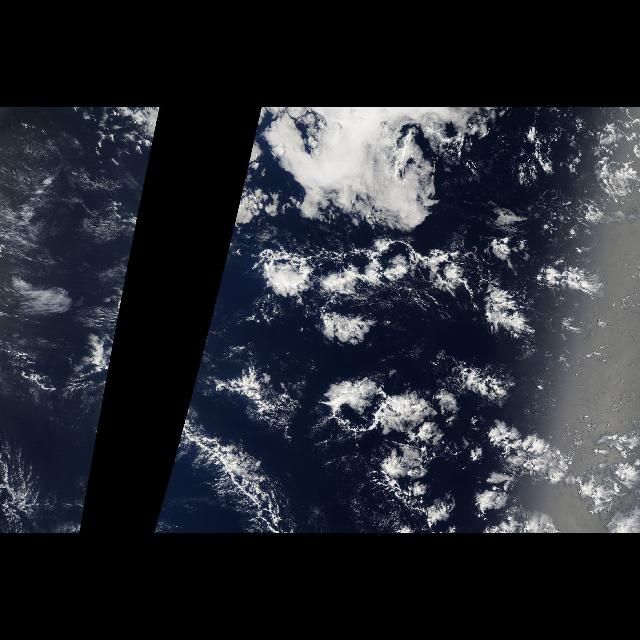Flower: (246, 122, 630, 528)
Sugar: (2, 114, 118, 308)
